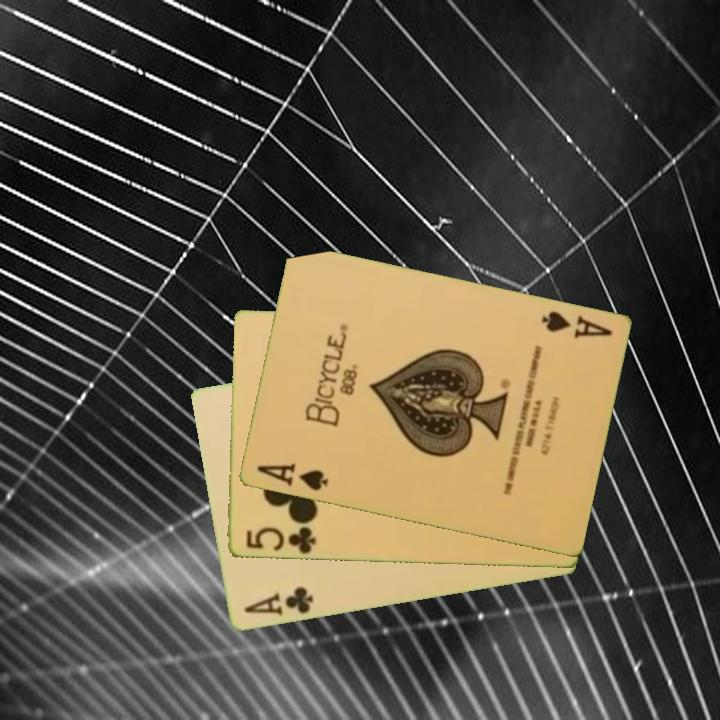5c: (242, 523, 318, 556)
Ac: (240, 583, 316, 620)
As: (537, 307, 615, 342), (253, 460, 331, 494)
